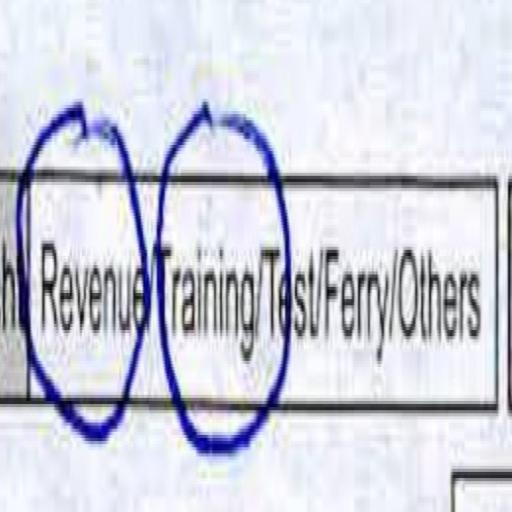check: (150, 86, 261, 468), (32, 128, 140, 450)
